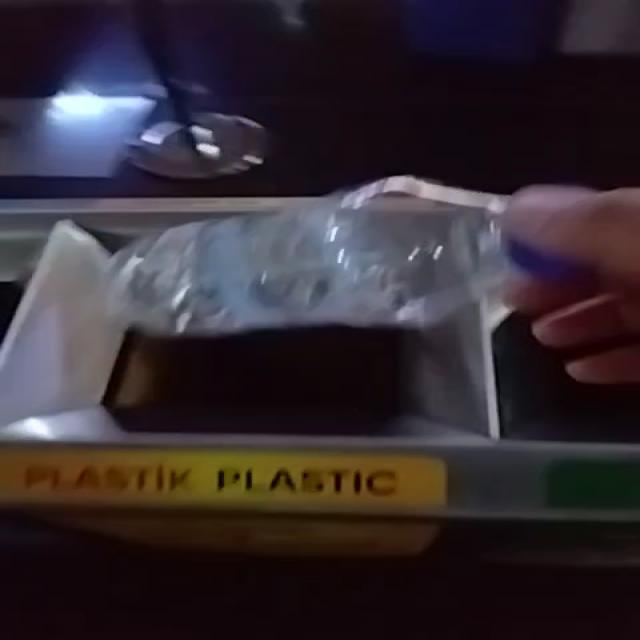plastic: (115, 177, 500, 335)
